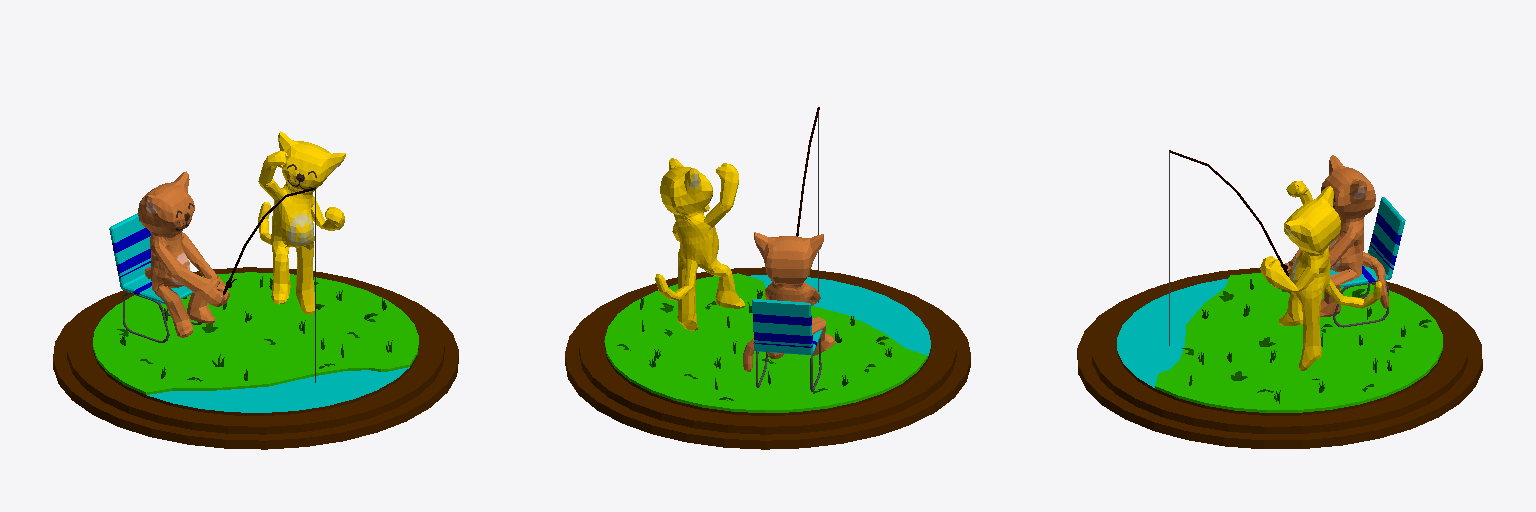
3 views of the same model, side by side, from view 1: azimuth 30°, elevation 25°; view 2: azimuth 150°, elevation 25°; view 3: azimuth 270°, elevation 25° (orthographic).
Parts seen in each view (by area): view 1: Cube.007_Cube.013; view 2: Cube.007_Cube.013; view 3: Cube.007_Cube.013.
Boxes of the visible parts, x1,y1,x2,y2 form: Cube.007_Cube.013: [53, 131, 458, 449]; Cube.007_Cube.013: [565, 107, 970, 449]; Cube.007_Cube.013: [1077, 150, 1482, 448].
Size of the model in its own units: 1.66 by 0.9748 by 1.66.
Materials: 9 (2 with a texture image).